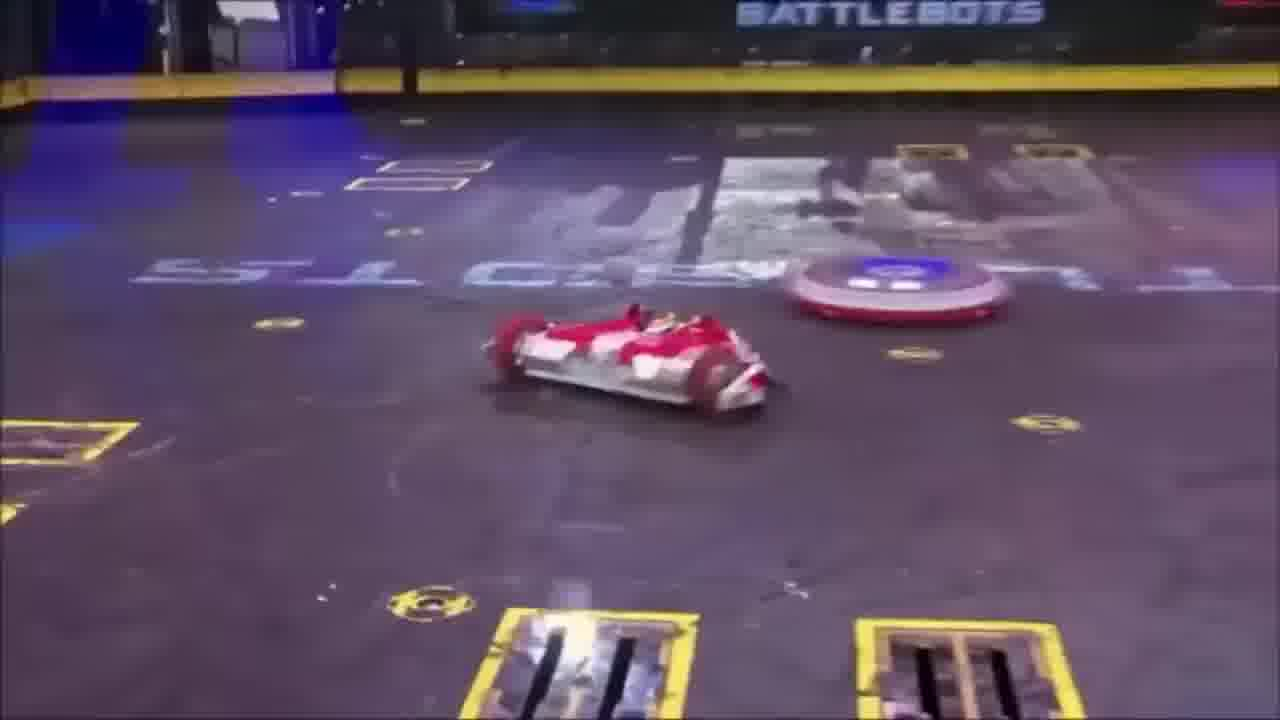combatbot: (484, 297, 771, 413), (782, 246, 1007, 328)
